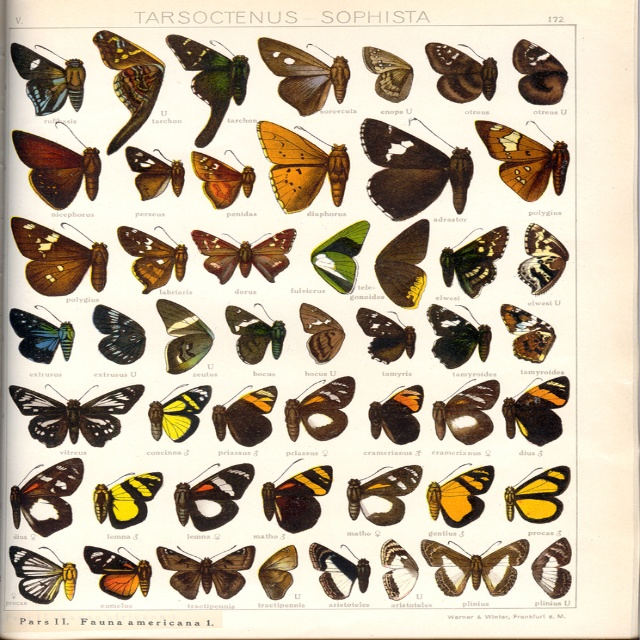Butterfly: (6, 371, 158, 456), (359, 108, 467, 224), (89, 24, 178, 154), (158, 29, 250, 152), (249, 122, 355, 224), (8, 119, 107, 219), (408, 534, 539, 604), (8, 212, 116, 295), (258, 39, 362, 117), (244, 457, 343, 537), (8, 452, 92, 545), (158, 459, 256, 537), (146, 539, 259, 604), (326, 458, 425, 532), (484, 291, 575, 367), (361, 215, 431, 310), (437, 217, 512, 305), (5, 38, 89, 116), (506, 372, 583, 456), (109, 219, 190, 297), (74, 538, 162, 609), (343, 300, 425, 376), (224, 292, 300, 373), (418, 456, 495, 535), (142, 373, 218, 453), (188, 226, 300, 280), (266, 376, 361, 439), (1, 297, 87, 366), (494, 457, 577, 528), (180, 137, 258, 212), (291, 538, 379, 604), (418, 36, 501, 105), (303, 220, 376, 298), (202, 381, 278, 455), (433, 371, 506, 448), (148, 299, 226, 371), (491, 110, 566, 184), (423, 297, 492, 376), (507, 28, 571, 110), (82, 468, 163, 532), (118, 138, 194, 203), (510, 220, 573, 297), (0, 544, 74, 607), (288, 296, 354, 364), (354, 39, 419, 108), (514, 534, 578, 603), (367, 376, 425, 449), (367, 534, 430, 601), (86, 305, 146, 366), (253, 545, 305, 605)
